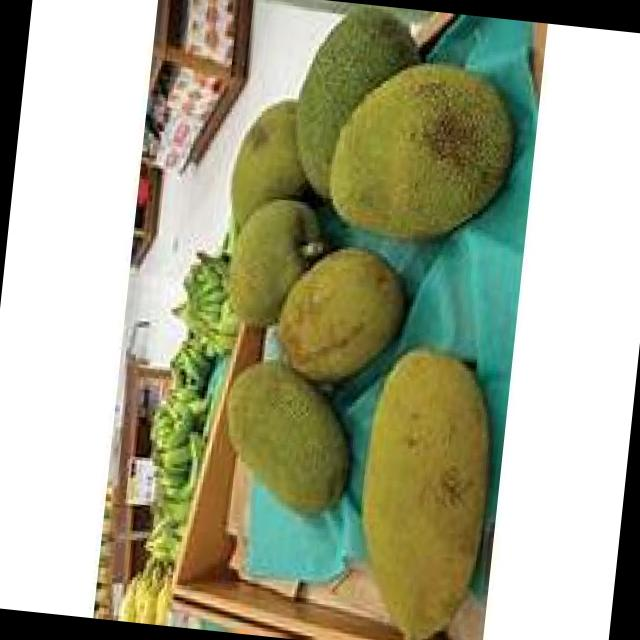Fruit: (296, 290, 514, 640), (276, 12, 540, 270), (188, 330, 380, 538)
